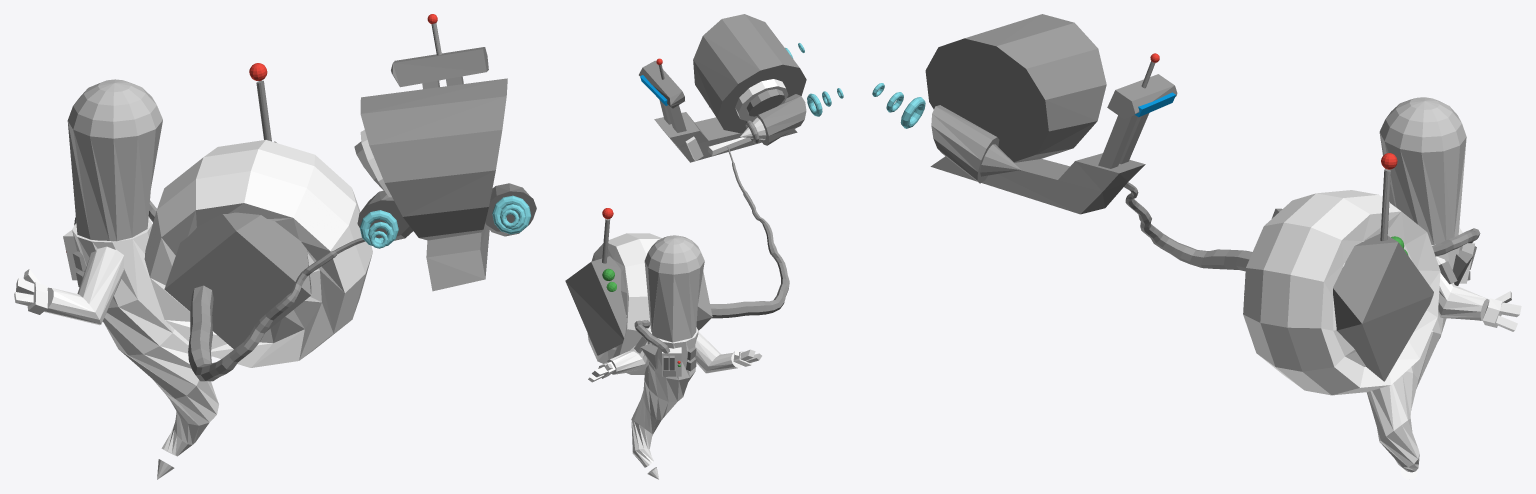
The model's file is space_snail.fbx.
3 renders of one model, left to right at view 1: azimuth 30°, elevation 25°; view 2: azimuth 150°, elevation 25°; view 3: azimuth 270°, elevation 25°, orthographic. The views are drawn at different scales.
Parts seen in each view (by area): view 1: mesh_1205787189, mesh_1912126430, mesh_1117443092, mesh_419247724, mesh_2105879556, group_467581026, mesh_930960193, mesh_590971022, mesh_1767688693, mesh_362801643, mesh_2010478910, mesh_894432454 (+1 smaller); view 2: mesh_1912126430, mesh_1117443092, mesh_1290088395, mesh_1205787189, mesh_2105879556, mesh_590971022, group_467581026, mesh_362801643, mesh_930960193, mesh_1767688693, mesh_1461926935, mesh_1660169887 (+6 smaller); view 3: mesh_1205787189, mesh_1912126430, mesh_1117443092, mesh_1290088395, mesh_590971022, mesh_2105879556, mesh_2010478910, group_467581026, mesh_1767688693, mesh_1660169887, mesh_1103552822, mesh_794718884.
Part boxes in pixels (x1,y1,x2,y2): mesh_1205787189: [144, 140, 372, 367]; mesh_1912126430: [360, 78, 507, 240]; mesh_1117443092: [67, 79, 162, 241]; mesh_419247724: [164, 212, 311, 349]; mesh_2105879556: [72, 218, 218, 456]; group_467581026: [188, 272, 307, 381]; mesh_930960193: [44, 246, 124, 325]; mesh_590971022: [426, 224, 489, 291]; mesh_1767688693: [391, 47, 488, 87]; mesh_362801643: [357, 190, 412, 240]; mesh_2010478910: [485, 183, 536, 236]; mesh_894432454: [492, 195, 531, 234]; mesh_1912126430: [693, 14, 806, 133]; mesh_1117443092: [644, 235, 704, 342]; mesh_1290088395: [565, 256, 626, 355]; mesh_1205787189: [587, 233, 661, 374]; mesh_2105879556: [631, 325, 698, 467]; mesh_590971022: [654, 112, 797, 162]; group_467581026: [710, 211, 789, 318]; mesh_362801643: [757, 94, 806, 145]; mesh_930960193: [695, 332, 741, 373]; mesh_1767688693: [639, 60, 684, 108]; mesh_1461926935: [735, 79, 788, 120]; mesh_1660169887: [607, 341, 649, 374]; mesh_1205787189: [1243, 190, 1440, 395]; mesh_1912126430: [925, 14, 1106, 162]; mesh_1117443092: [1379, 97, 1466, 244]; mesh_1290088395: [1333, 233, 1433, 381]; mesh_590971022: [930, 153, 1145, 214]; mesh_2105879556: [1367, 228, 1462, 472]; mesh_2010478910: [931, 105, 999, 183]; group_467581026: [1125, 191, 1252, 271]; mesh_1767688693: [1107, 74, 1177, 118]; mesh_1660169887: [1436, 256, 1488, 320]; mesh_1103552822: [1098, 115, 1137, 168]; mesh_794718884: [980, 144, 1020, 176].
Bounding box in the file's own units: 148 × 227 × 272.
